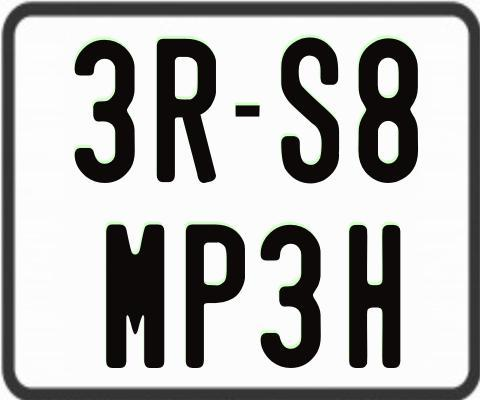3: (260, 222, 325, 366), (75, 37, 136, 184)
8: (355, 38, 417, 186)
H: (347, 222, 404, 371)
M: (104, 224, 164, 370)
P: (186, 224, 251, 374)
R: (155, 39, 215, 184)
S: (280, 34, 343, 186)
